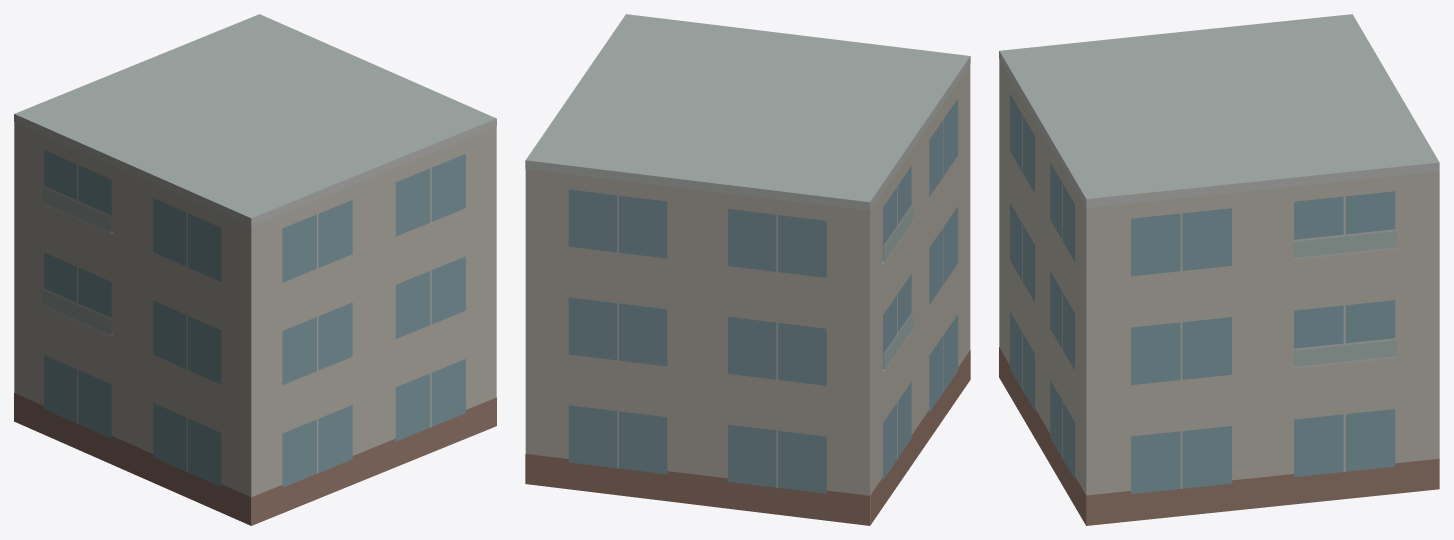
File: survey-upis-32907163.glb
The picture shows the model from 3 angles, left to right: view 1: azimuth 30°, elevation 25°; view 2: azimuth 150°, elevation 25°; view 3: azimuth 270°, elevation 25°; orthographic projection. The views are drawn at different scales.
Visible parts, largest first — view 1: survey-upis-32907163.tmp; view 2: survey-upis-32907163.tmp; view 3: survey-upis-32907163.tmp.
Part boxes in pixels (bbox=[...]): survey-upis-32907163.tmp: bbox=[14, 14, 496, 525]; survey-upis-32907163.tmp: bbox=[525, 14, 970, 525]; survey-upis-32907163.tmp: bbox=[999, 14, 1439, 525].
Size of the model in its own units: 11.13 by 9.15 by 11.19.
